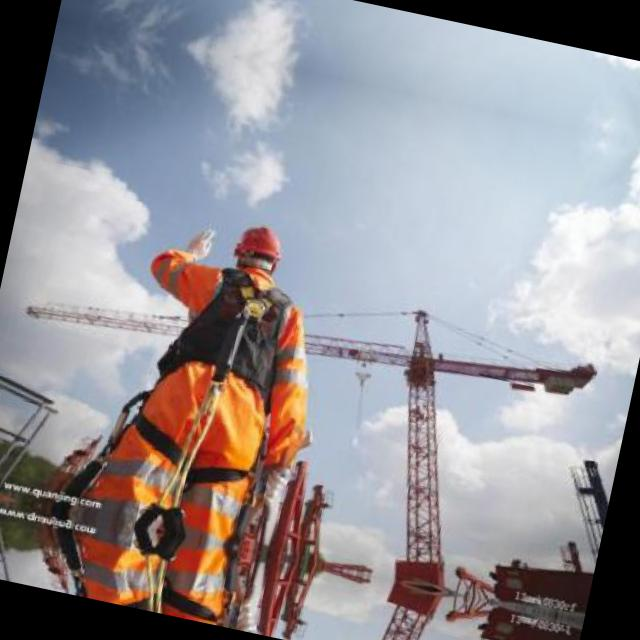helmet: (224, 214, 294, 293)
